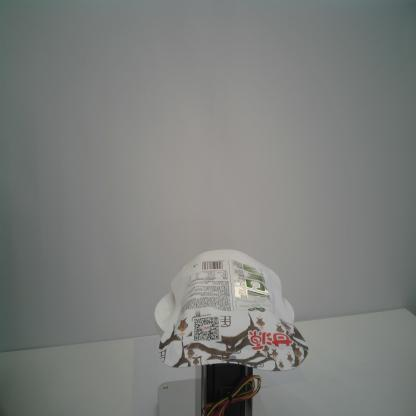Dried Fruit: (158, 248, 309, 373)
